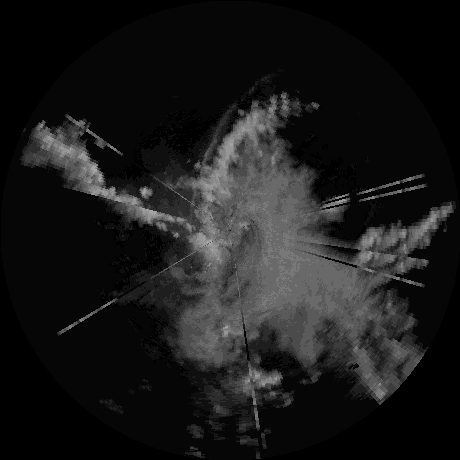frontgust: (204, 104, 233, 169), (190, 191, 201, 223)
